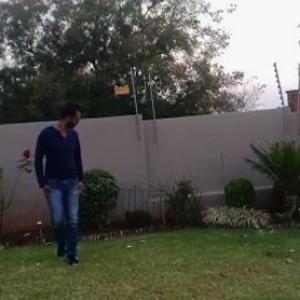follow: (30, 87, 89, 278)
